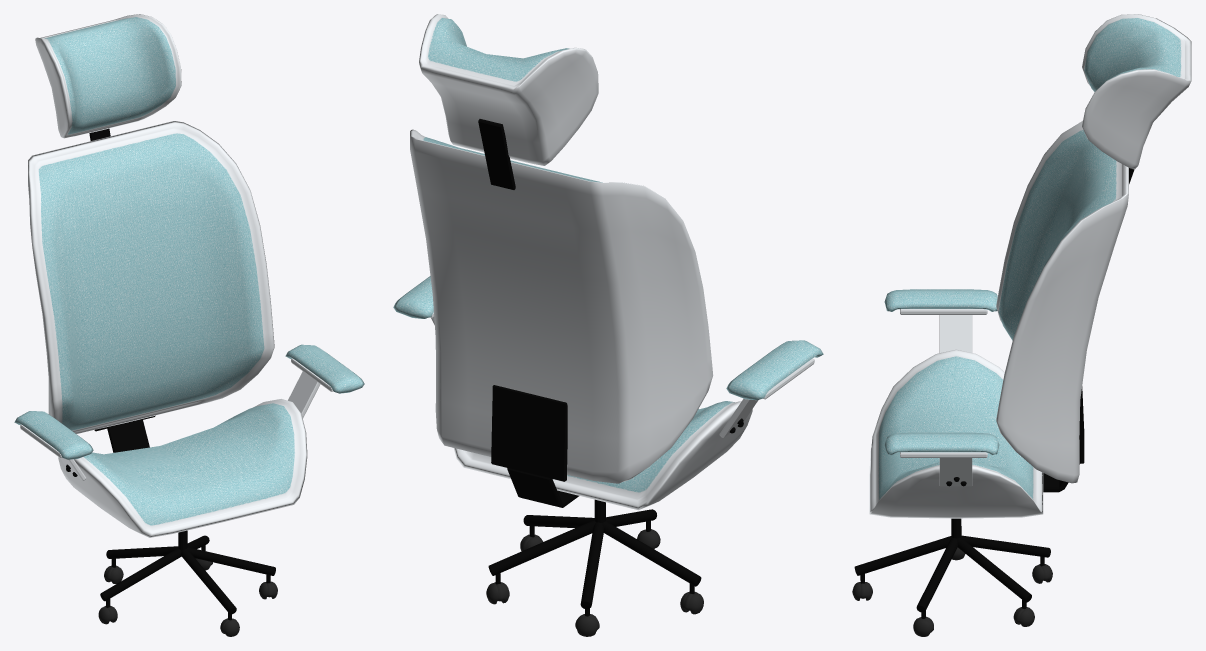
The model's file is chair_tex.fbx.
The picture shows the model from 3 angles, left to right: view 1: azimuth 30°, elevation 25°; view 2: azimuth 150°, elevation 25°; view 3: azimuth 270°, elevation 25°; orthographic projection. The views are drawn at different scales.
Parts seen in each view (by area): view 1: polySurface11; view 2: polySurface11; view 3: polySurface11.
Part boxes in pixels (x1,y1,x2,y2): polySurface11: (14,14,364,636); polySurface11: (393,14,823,636); polySurface11: (852,14,1191,636).
Bounding box in the file's own units: 66.75 × 108 × 59.96.
